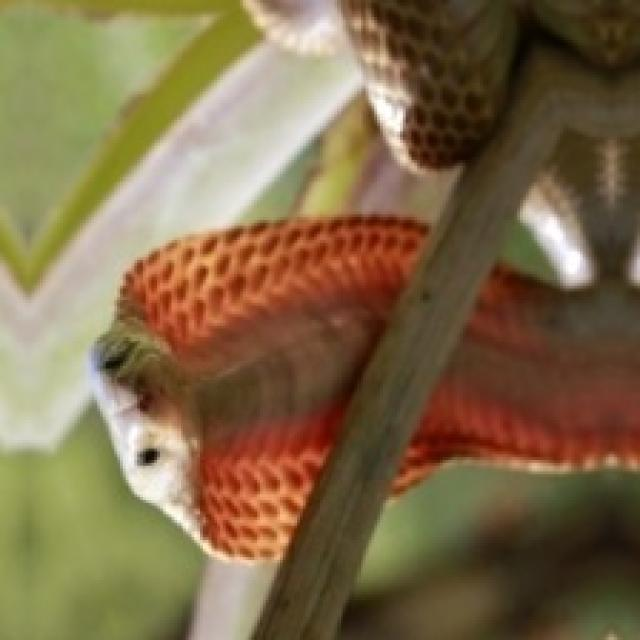philippine cobra: (91, 217, 426, 560), (394, 266, 637, 489), (342, 0, 640, 168)
